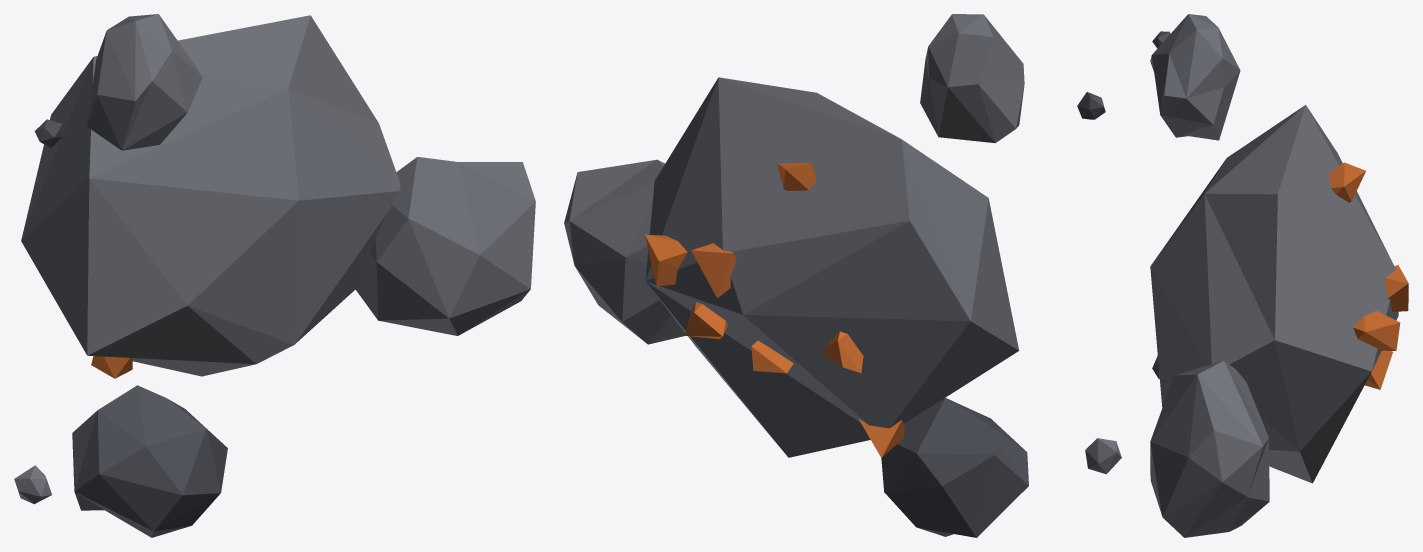
File: SM_Rock_Copper_03.fbx
The picture shows the model from 3 angles, left to right: view 1: azimuth 30°, elevation 25°; view 2: azimuth 150°, elevation 25°; view 3: azimuth 270°, elevation 25°; orthographic projection. The views are drawn at different scales.
Visible parts, largest first — view 1: fam_rock, fam_rock_dark, fam_copper; view 2: fam_rock, fam_rock_dark, fam_copper; view 3: fam_rock, fam_copper.
Boxes of the visible parts, box(x1,y1,x2,y2) form: fam_rock: box(14, 14, 535, 504); fam_rock_dark: box(34, 119, 227, 537); fam_copper: box(91, 356, 132, 378); fam_rock: box(564, 14, 1121, 474); fam_rock_dark: box(881, 92, 1105, 537); fam_copper: box(645, 162, 904, 457); fam_rock: box(1150, 14, 1398, 537); fam_copper: box(1329, 162, 1408, 389).
Bounding box in the file's own units: 11.05 × 10.42 × 4.9.
